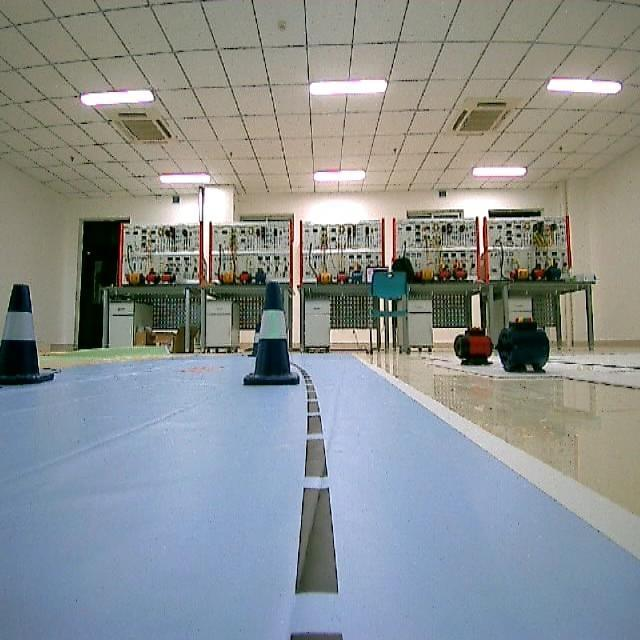obstacle: (240, 278, 304, 390), (0, 271, 57, 390)
